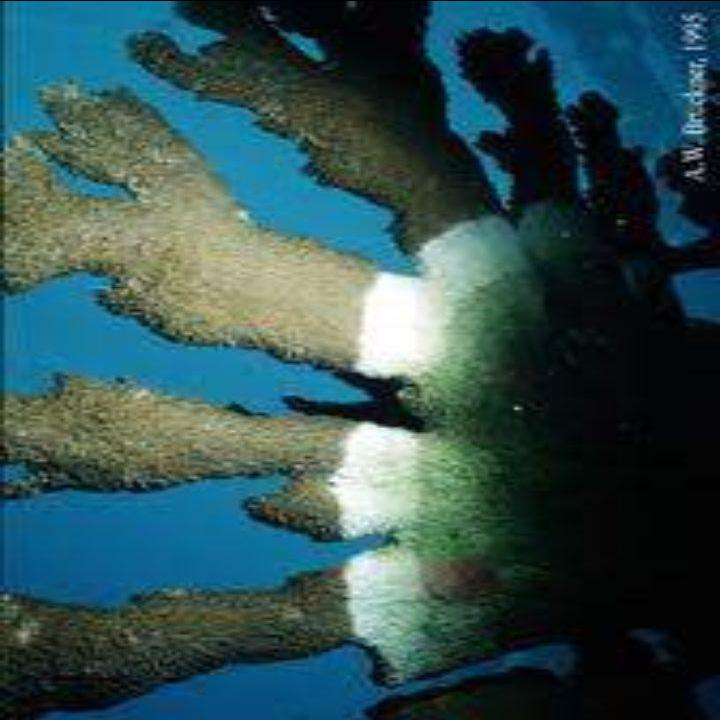Band disease: (242, 121, 647, 699)
